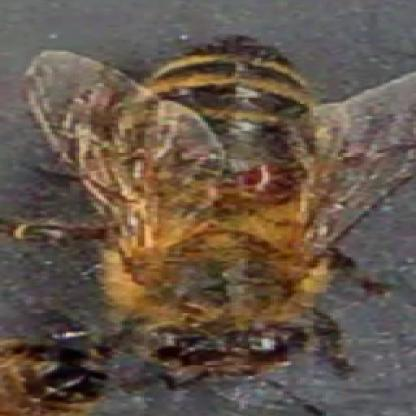bee: (60, 32, 341, 388)
vaoora: (245, 166, 291, 192)
